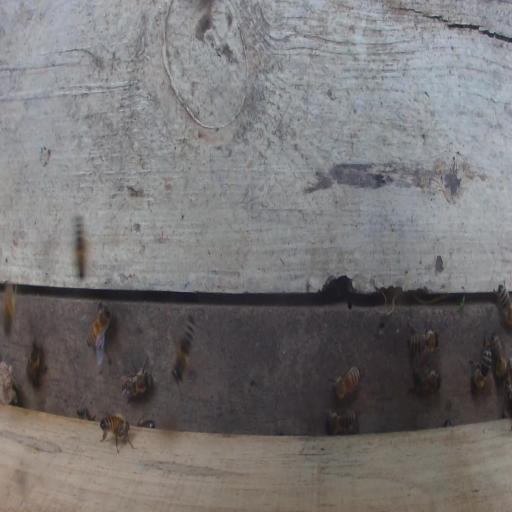bee: (169, 314, 195, 384), (119, 355, 157, 402), (467, 331, 493, 391), (98, 409, 132, 451), (84, 304, 112, 353), (322, 402, 359, 437), (407, 363, 442, 400), (491, 279, 512, 335), (330, 362, 360, 401), (25, 337, 47, 389), (406, 327, 438, 362), (492, 330, 509, 383), (2, 281, 16, 334)
